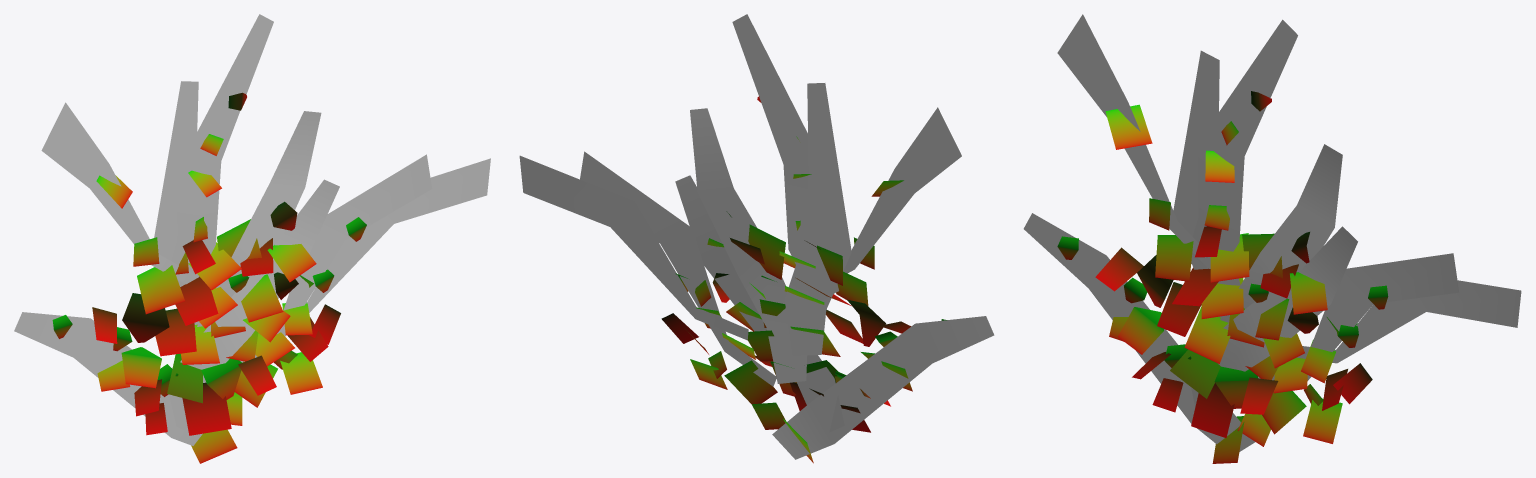
File: Var6_LOD3.fbx
3 views of the same model, side by side, from view 1: azimuth 30°, elevation 25°; view 2: azimuth 150°, elevation 25°; view 3: azimuth 330°, elevation 25° (orthographic). The views are drawn at different scales.
Parts seen in each view (by area): view 1: _b85b_Var6_LOD3; view 2: _b85b_Var6_LOD3; view 3: _b85b_Var6_LOD3.
Boxes of the visible parts, bbox=[...] form: _b85b_Var6_LOD3: bbox=[14, 14, 490, 463]; _b85b_Var6_LOD3: bbox=[519, 14, 994, 463]; _b85b_Var6_LOD3: bbox=[1023, 14, 1521, 463].
Bounding box in the file's own units: 63.91 × 55.77 × 6.82.
